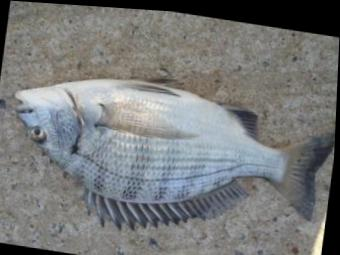fish: (13, 73, 336, 232)
